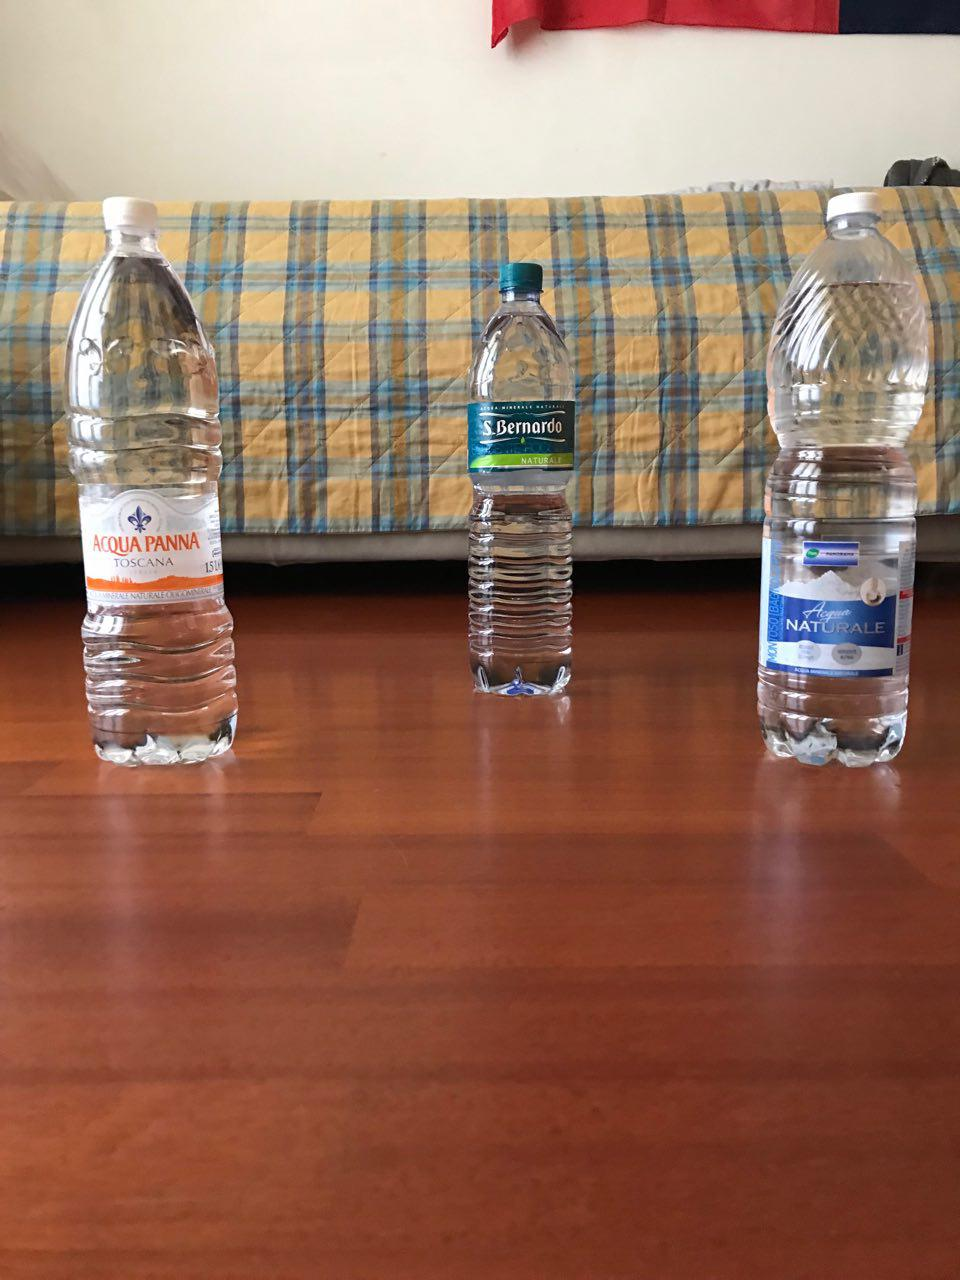san_bernardo: (465, 261, 576, 696)
